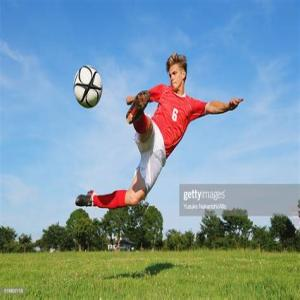Football: (72, 64, 103, 108)
